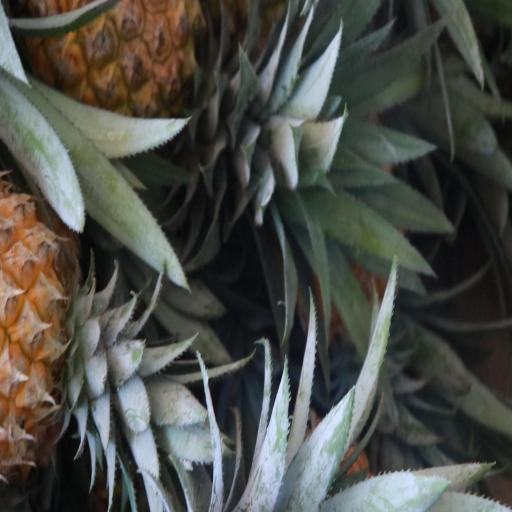Pineapple - v8 v1: (0, 195, 138, 469), (31, 0, 228, 126)
